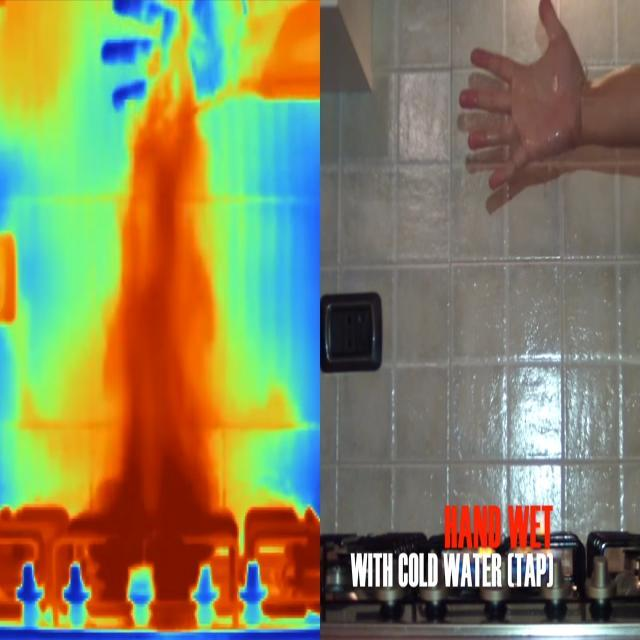fire: (85, 460, 220, 593)
